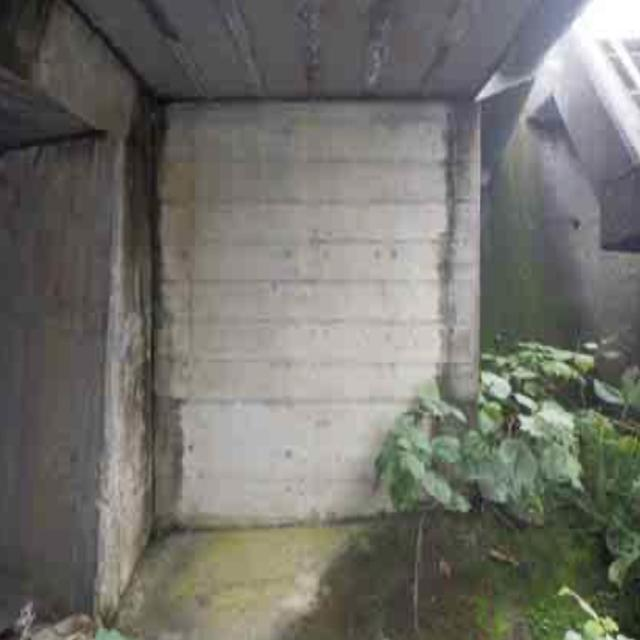leakage: (101, 64, 186, 554)
